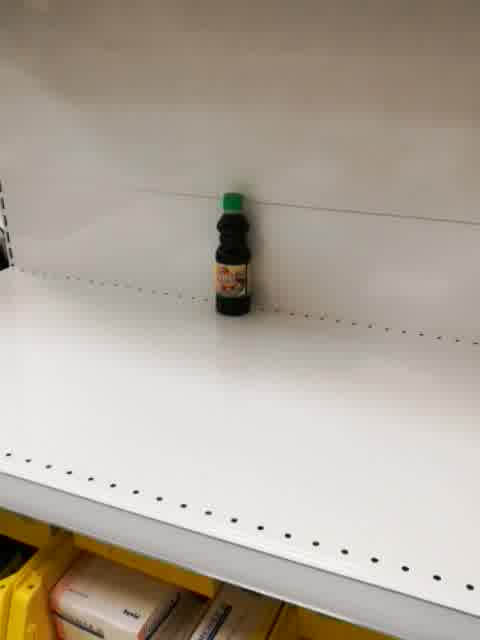cookingoil: (211, 188, 255, 318)
